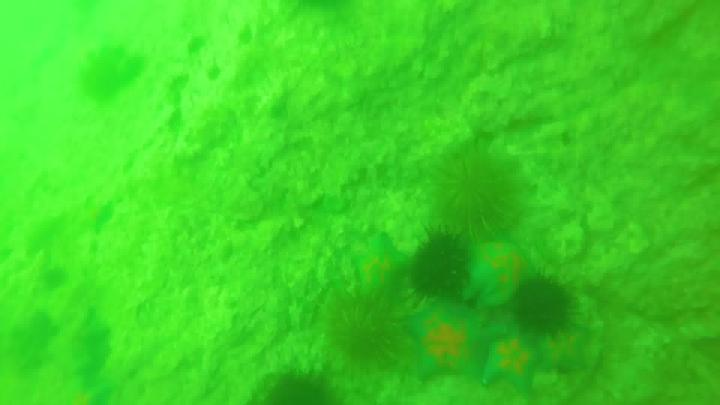echinus: (438, 140, 522, 240), (410, 226, 472, 305), (512, 279, 575, 340)
starfish: (401, 306, 513, 379), (483, 342, 537, 392)
